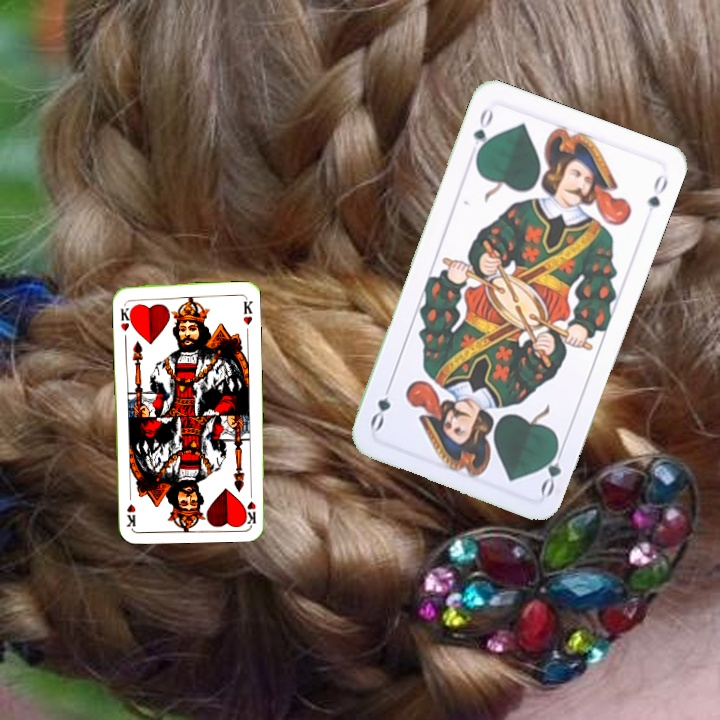GO: (536, 439, 568, 498), (469, 104, 496, 162)
HK: (241, 485, 259, 525), (117, 303, 135, 334)
